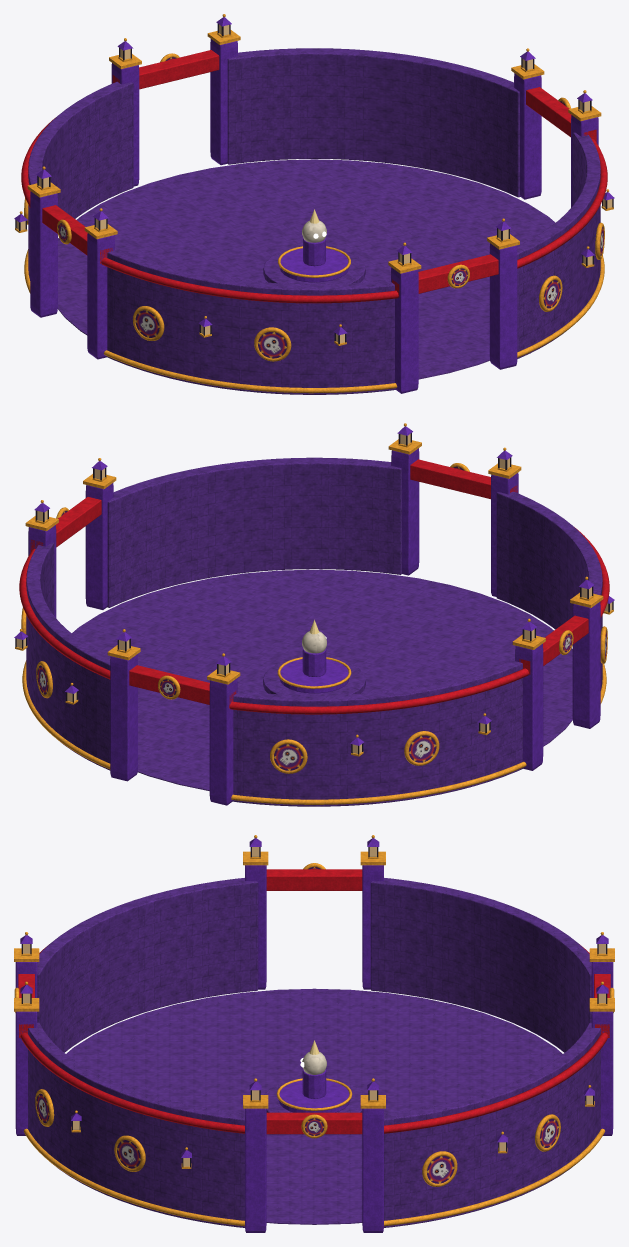
File: MO_MonsterRoom.fbx
3 views of the same model, one above another, from view 1: azimuth 30°, elevation 25°; view 2: azimuth 150°, elevation 25°; view 3: azimuth 270°, elevation 25° (orthographic). The views are drawn at different scales.
Parts seen in each view (by area): view 1: MO_MonsterRoom; view 2: MO_MonsterRoom; view 3: MO_MonsterRoom.
Boxes of the visible parts, x1,y1,x2,y2 form: MO_MonsterRoom: [14, 14, 614, 394]; MO_MonsterRoom: [14, 423, 614, 806]; MO_MonsterRoom: [14, 835, 614, 1232].
Bounding box in the file's own units: 25.05 × 6.92 × 25.05.
